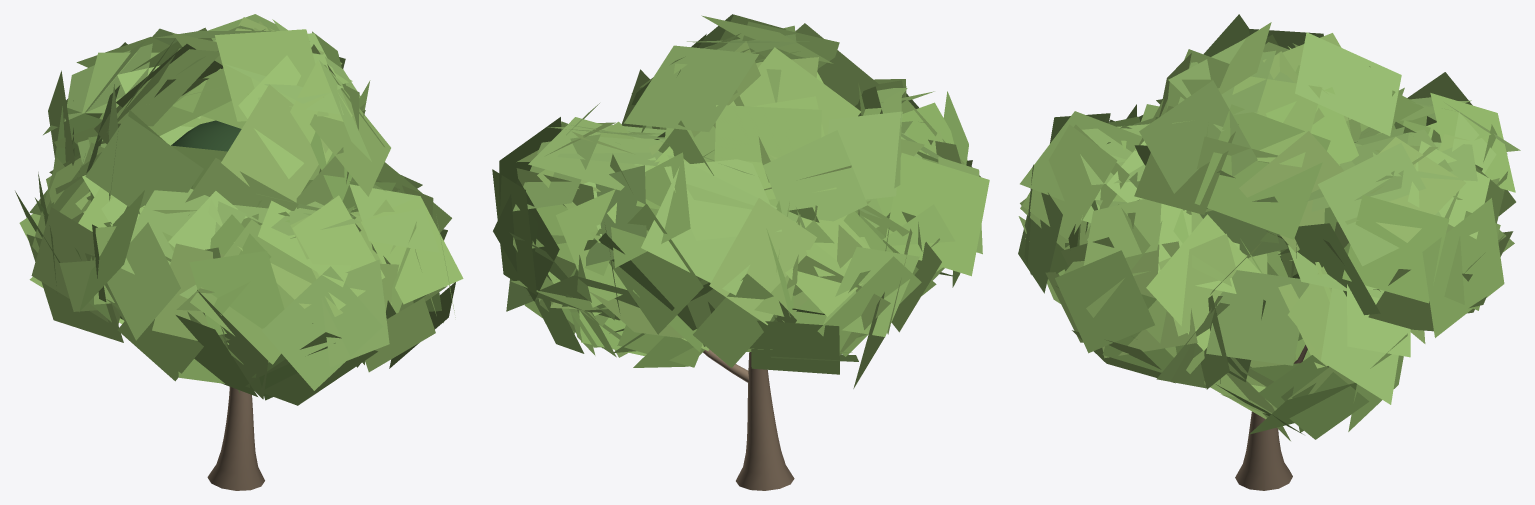
File: tree_oak_2.glb
3 views of the same model, side by side, from view 1: azimuth 30°, elevation 25°; view 2: azimuth 150°, elevation 25°; view 3: azimuth 270°, elevation 25° (orthographic). The views are drawn at different scales.
Visible parts, largest first — view 1: Tree; view 2: Tree; view 3: Tree.
Boxes of the visible parts, x1,y1,x2,y2 form: Tree: (15,14,463,490); Tree: (492,14,989,490); Tree: (1018,14,1520,490).
Size of the model in its own units: 9.16 by 9.71 by 9.87.
